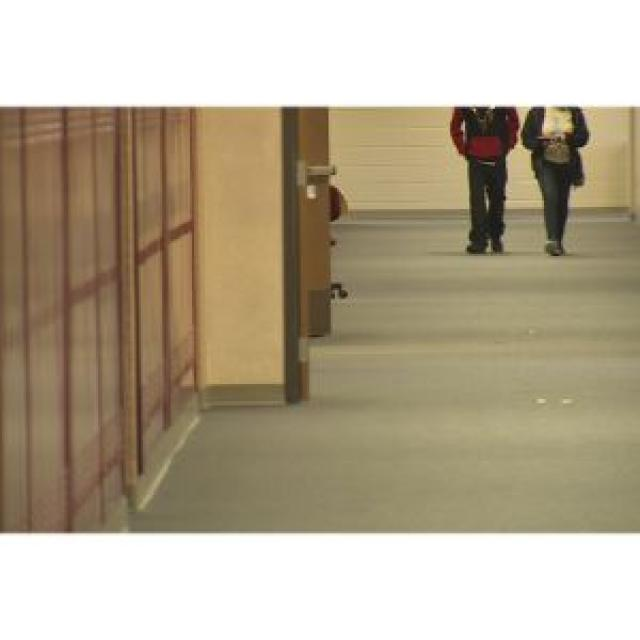nonfall: (437, 103, 529, 287), (542, 111, 592, 268)
